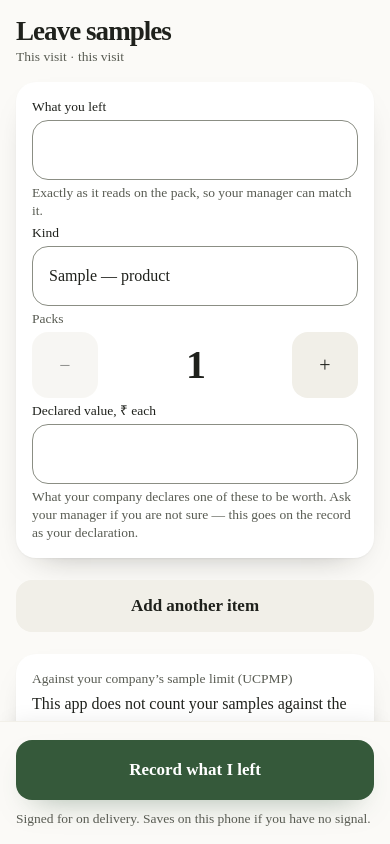
Scenario: FE-D2 6 — an unusable press does not take the form away › shows why, and keeps the form and the button
What coordinates should you click on to do the following:
click the button "Record what I left"
I would click on:
 (195, 770)
Its box is x1=16 y1=740 x2=374 y2=800.
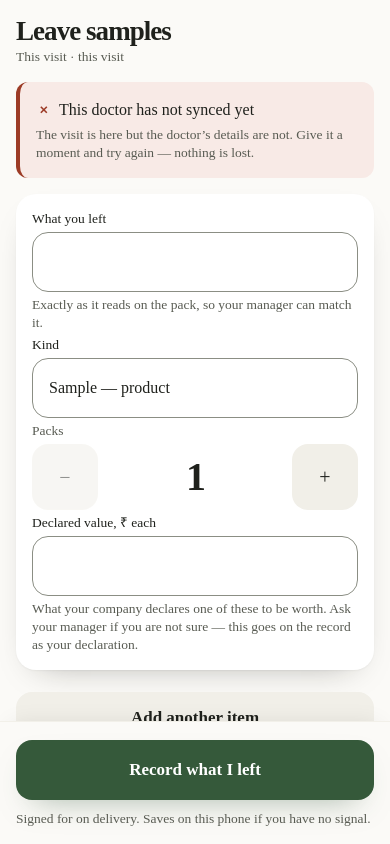
expect the text "Record what I left" is shown: met, box x1=129 y1=759 x2=261 y2=781
expect the text "This doctor has not synced yet" is shown: met, box x1=59 y1=101 x2=254 y2=118
